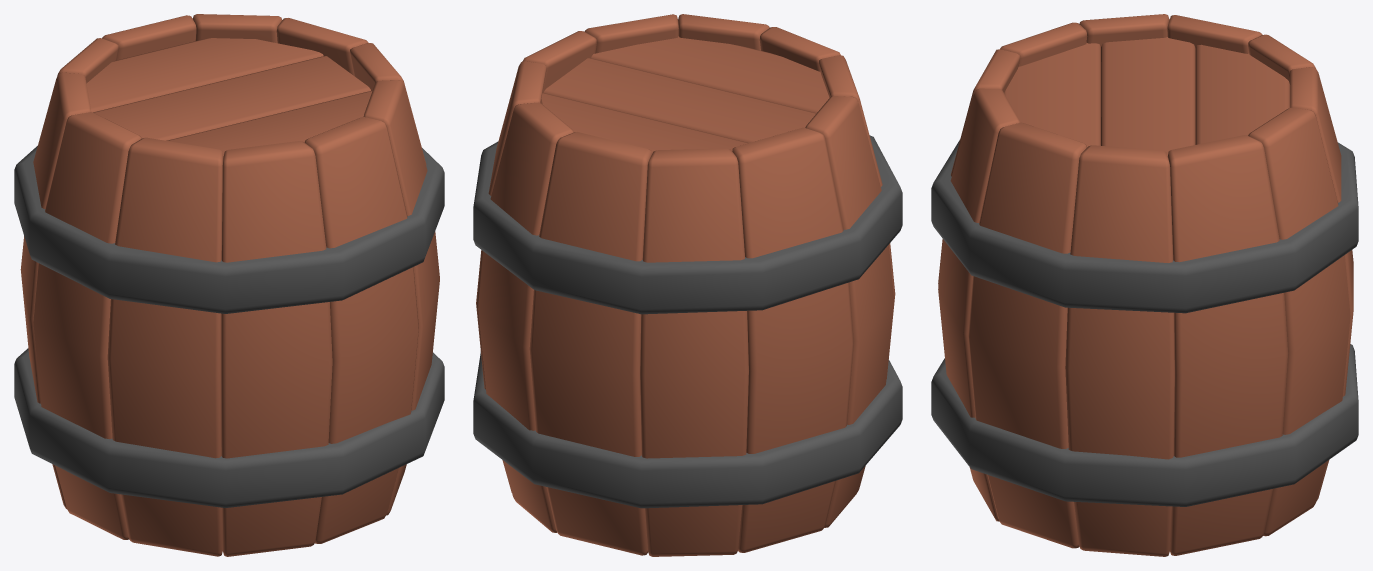
Rendered from Wooden_Barrel_01.fbx.
The picture shows the model from 3 angles, left to right: view 1: azimuth 30°, elevation 25°; view 2: azimuth 150°, elevation 25°; view 3: azimuth 270°, elevation 25°; orthographic projection.
Visible parts, largest first — view 1: Wooden_Barrel_01; view 2: Wooden_Barrel_01; view 3: Wooden_Barrel_01.
Part boxes in pixels (x1,y1,x2,y2): Wooden_Barrel_01: (14, 14, 444, 556); Wooden_Barrel_01: (473, 14, 902, 556); Wooden_Barrel_01: (931, 14, 1358, 556).
Bounding box in the file's own units: 834 × 850 × 827.
